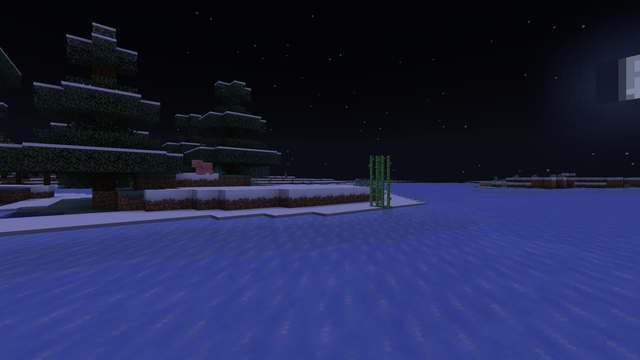cochons: (195, 161, 211, 174)
